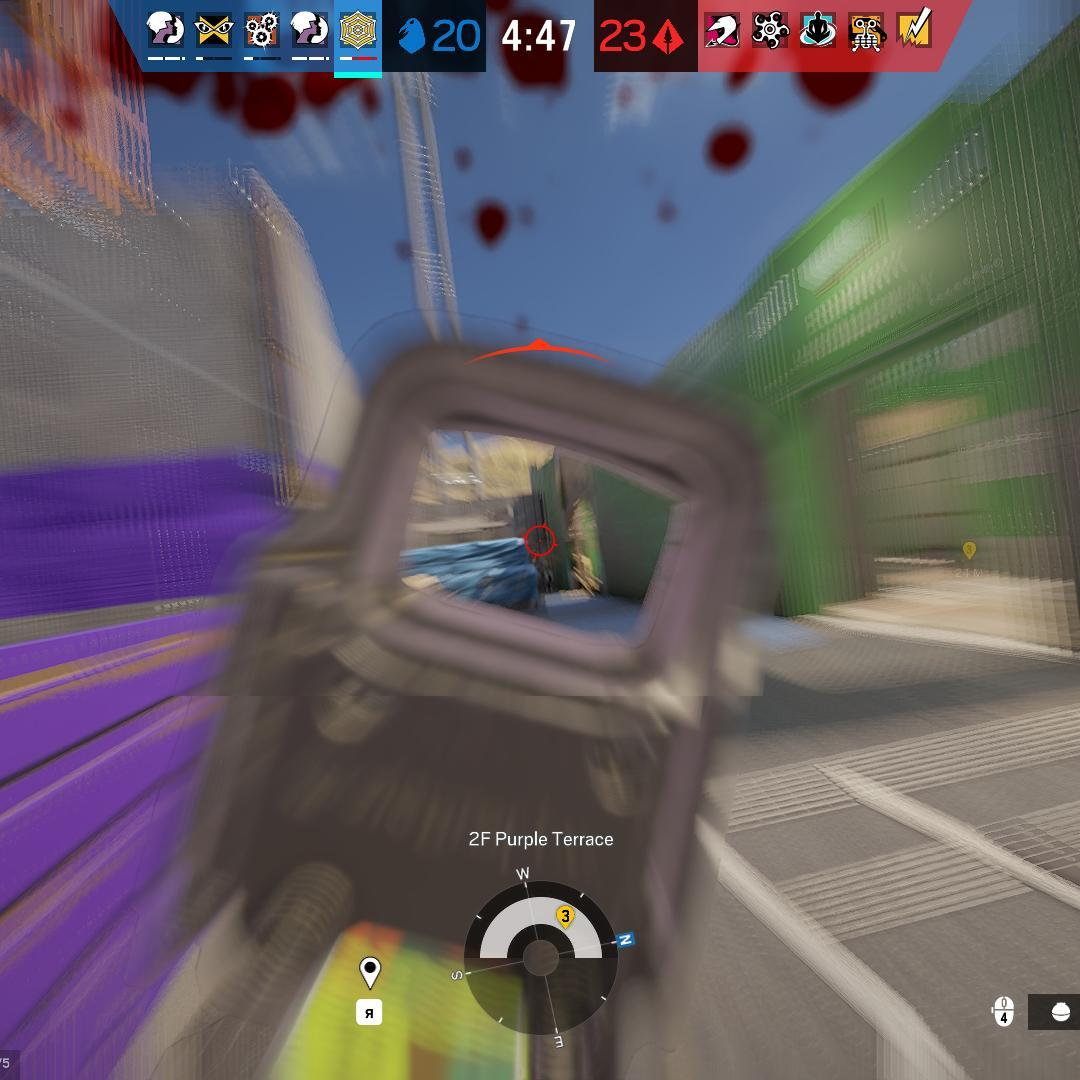Character: (526, 549, 557, 594)
